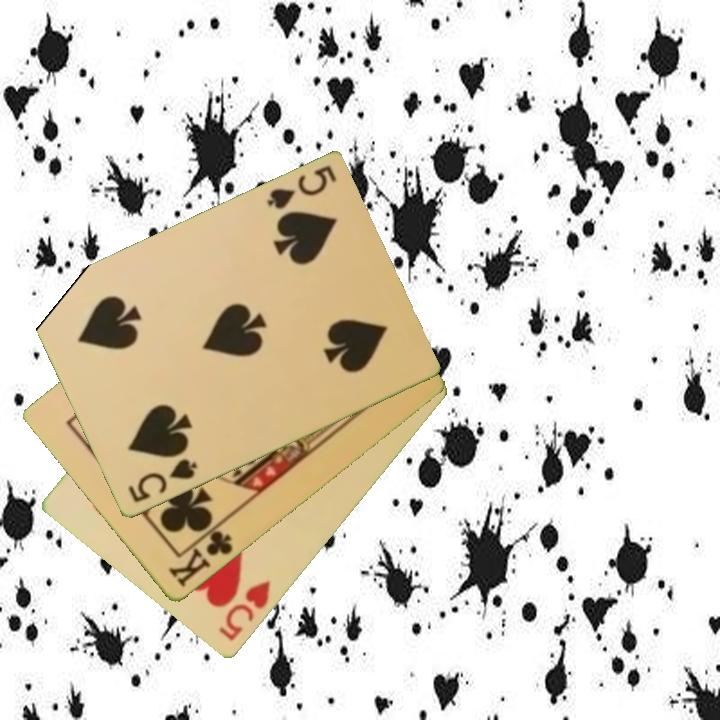5h: (215, 577, 274, 645)
5s: (262, 162, 340, 213), (124, 455, 201, 506)
Kc: (164, 519, 236, 591)
